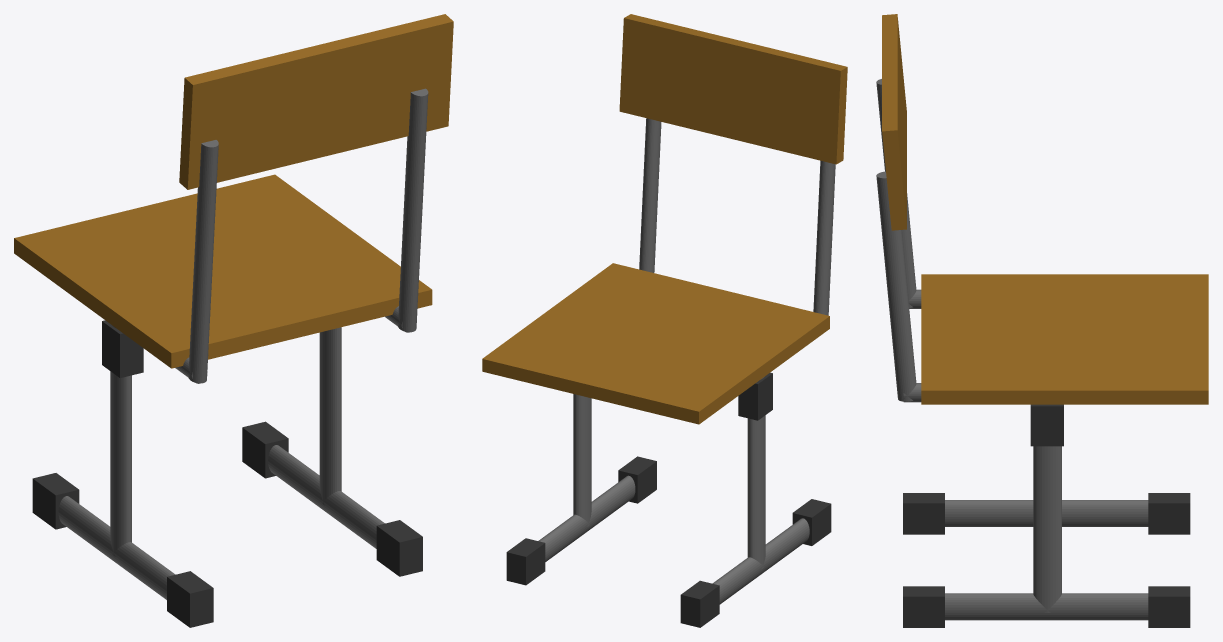
The model's file is chair.fbx.
3 renders of one model, left to right at view 1: azimuth 30°, elevation 25°; view 2: azimuth 150°, elevation 25°; view 3: azimuth 270°, elevation 25°, orthographic. The views are drawn at different scales.
Visible parts, largest first — view 1: Cube.006, Cube.007, Cylinder.008, Cylinder.007, Cylinder.004, Cylinder.003, Cylinder.002, Cylinder.001, Cube.002, Cube.003, Cube.004, Cube.001 (+1 smaller); view 2: Cube.006, Cube.007, Cylinder.003, Cylinder.007, Cylinder.008, Cylinder.004, Cylinder.002, Cylinder.001, Cube, Cube.001, Cube.004, Cube.002 (+1 smaller); view 3: Cube.006, Cylinder.001, Cylinder.002, Cylinder.004, Cube.007, Cylinder.008, Cube, Cube.001, Cube.002, Cube.003, Cube.005, Cylinder.007.
Part boxes in pixels (box(x1,y1,x2,y2)): Cube.006: box(14, 174, 432, 368); Cube.007: box(179, 14, 453, 189); Cylinder.008: box(398, 88, 428, 332); Cylinder.007: box(188, 140, 218, 383); Cylinder.004: box(319, 327, 341, 505); Cylinder.003: box(110, 325, 131, 556); Cylinder.002: box(58, 496, 175, 599); Cylinder.001: box(268, 445, 384, 548); Cube.002: box(167, 571, 213, 627); Cube.003: box(376, 520, 422, 576); Cube.004: box(102, 320, 143, 377); Cube.001: box(32, 473, 79, 529); Cube.006: box(482, 263, 829, 424); Cube.007: box(619, 14, 847, 164); Cylinder.003: box(747, 377, 765, 569); Cylinder.007: box(813, 160, 835, 315); Cylinder.008: box(639, 118, 661, 272); Cylinder.004: box(573, 394, 591, 526); Cylinder.002: box(712, 518, 809, 604); Cylinder.001: box(538, 475, 635, 561); Cube: box(506, 538, 545, 585); Cube.001: box(680, 580, 719, 627); Cube.004: box(738, 372, 772, 420); Cube.002: box(792, 499, 831, 545); Cube.006: box(921, 274, 1208, 404); Cylinder.001: box(945, 593, 1148, 620); Cylinder.002: box(945, 500, 1148, 526); Cylinder.004: box(1033, 446, 1061, 612); Cube.007: box(882, 14, 906, 230); Cylinder.008: box(876, 171, 916, 401); Cube: box(1148, 586, 1190, 627); Cube.001: box(1148, 493, 1190, 534); Cube.002: box(903, 493, 944, 534); Cube.003: box(903, 586, 944, 627); Cube.005: box(1030, 404, 1063, 446); Cylinder.007: box(876, 79, 916, 307).
Size of the model in its own units: 1121 by 2276 by 1354.
